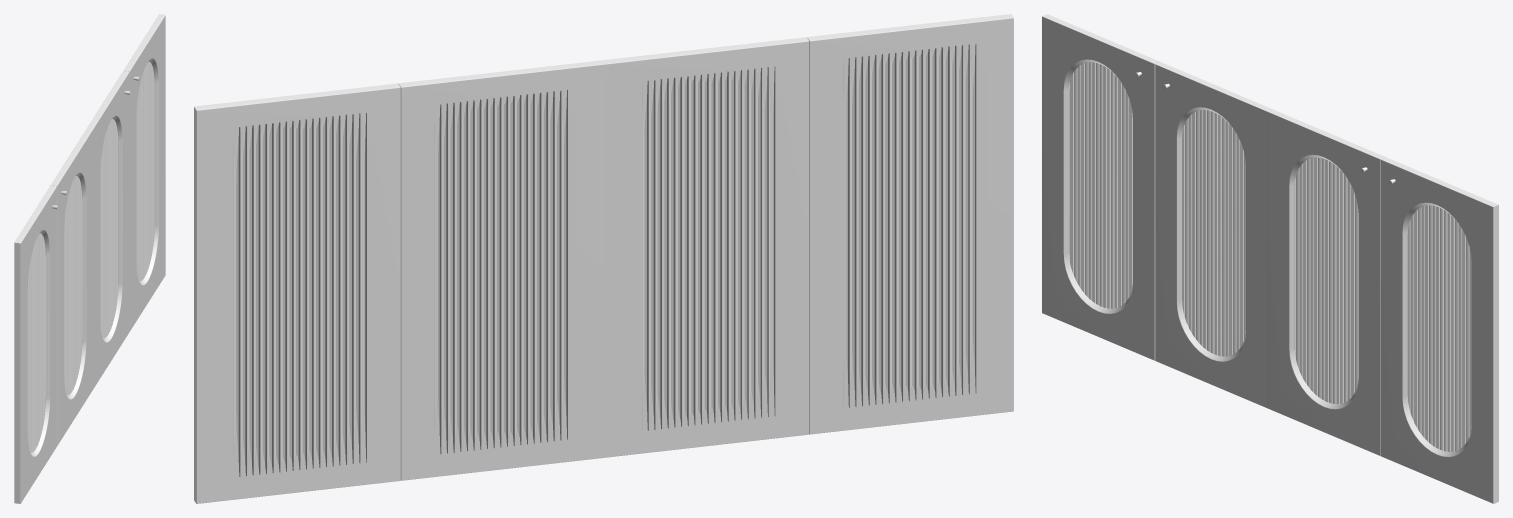
Rendered from tvtable_0301_door.glb.
3 renders of one model, left to right at view 1: azimuth 30°, elevation 25°; view 2: azimuth 150°, elevation 25°; view 3: azimuth 270°, elevation 25°, orthographic. The views are drawn at different scales.
Parts seen in each view (by area): view 1: tvtable_0301_door; view 2: tvtable_0301_door; view 3: tvtable_0301_door.
Part boxes in pixels (bbox=[...]): tvtable_0301_door: bbox=[14, 14, 165, 503]; tvtable_0301_door: bbox=[194, 14, 1013, 503]; tvtable_0301_door: bbox=[1042, 14, 1498, 503].
Bounding box in the file's own units: 1.14 × 0.8212 × 1.14.
Materials: 1 (1 with a texture image).
